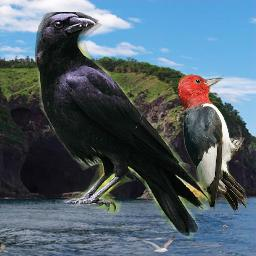Crow: (35, 12, 211, 239)
Woodpecker: (178, 73, 249, 212)
